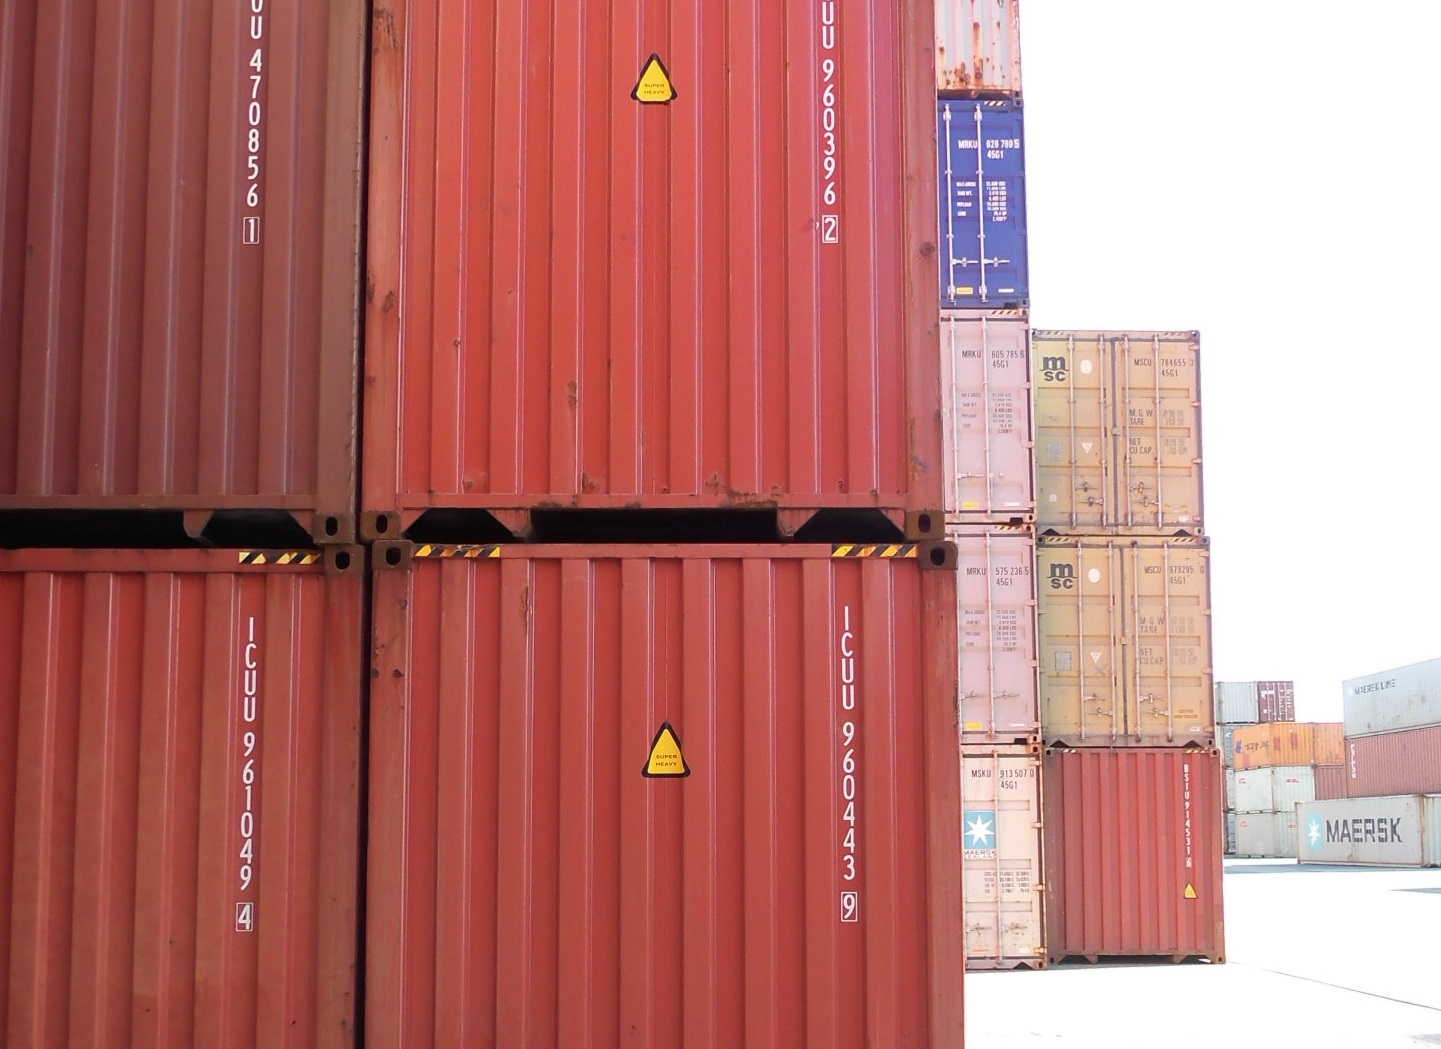container_door: (1037, 532, 1209, 748), (1033, 327, 1205, 542), (954, 747, 1039, 968), (939, 93, 1027, 302), (948, 312, 1035, 520), (954, 530, 1042, 738)
container_no_door: (368, 1, 946, 533), (370, 538, 962, 1049), (3, 1, 360, 533), (1, 538, 370, 1049), (1048, 746, 1225, 965)
